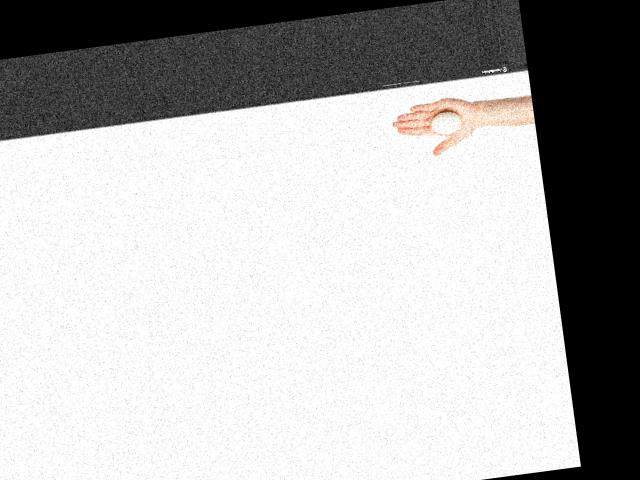egg: (429, 110, 461, 135)
